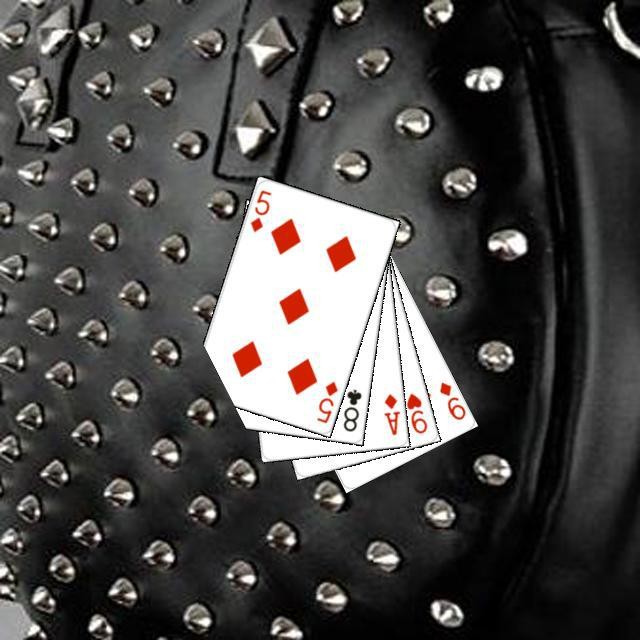5d: (311, 376, 340, 425), (245, 185, 273, 234)
8c: (338, 384, 363, 433)
9d: (434, 377, 467, 422)
9h: (401, 388, 429, 435)
Ad: (379, 389, 401, 437)
